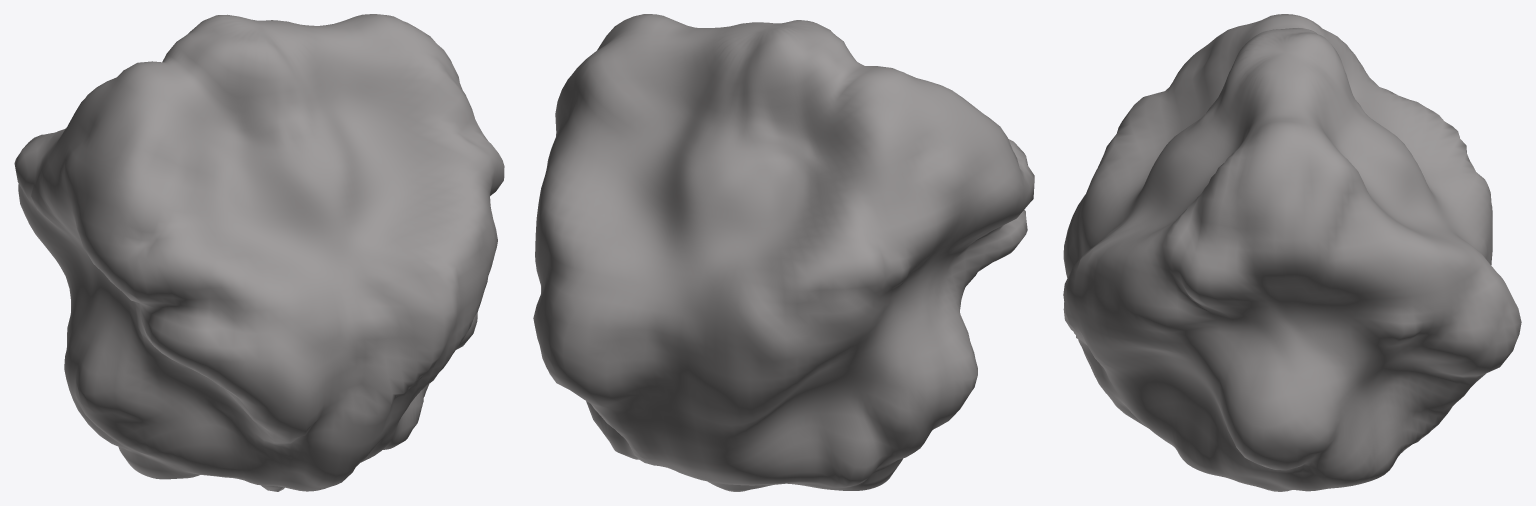
File: meteor1.fbx
The picture shows the model from 3 angles, left to right: view 1: azimuth 30°, elevation 25°; view 2: azimuth 150°, elevation 25°; view 3: azimuth 270°, elevation 25°; orthographic projection. The views are drawn at different scales.
Parts seen in each view (by area): view 1: Sphere; view 2: Sphere; view 3: Sphere.
Part boxes in pixels (box(x1,y1,x2,y2)): Sphere: box(14, 14, 504, 491); Sphere: box(533, 14, 1034, 491); Sphere: box(1063, 14, 1521, 491).
Size of the model in its own units: 194 by 210 by 202.
Materials: 1 (1 with a texture image).
